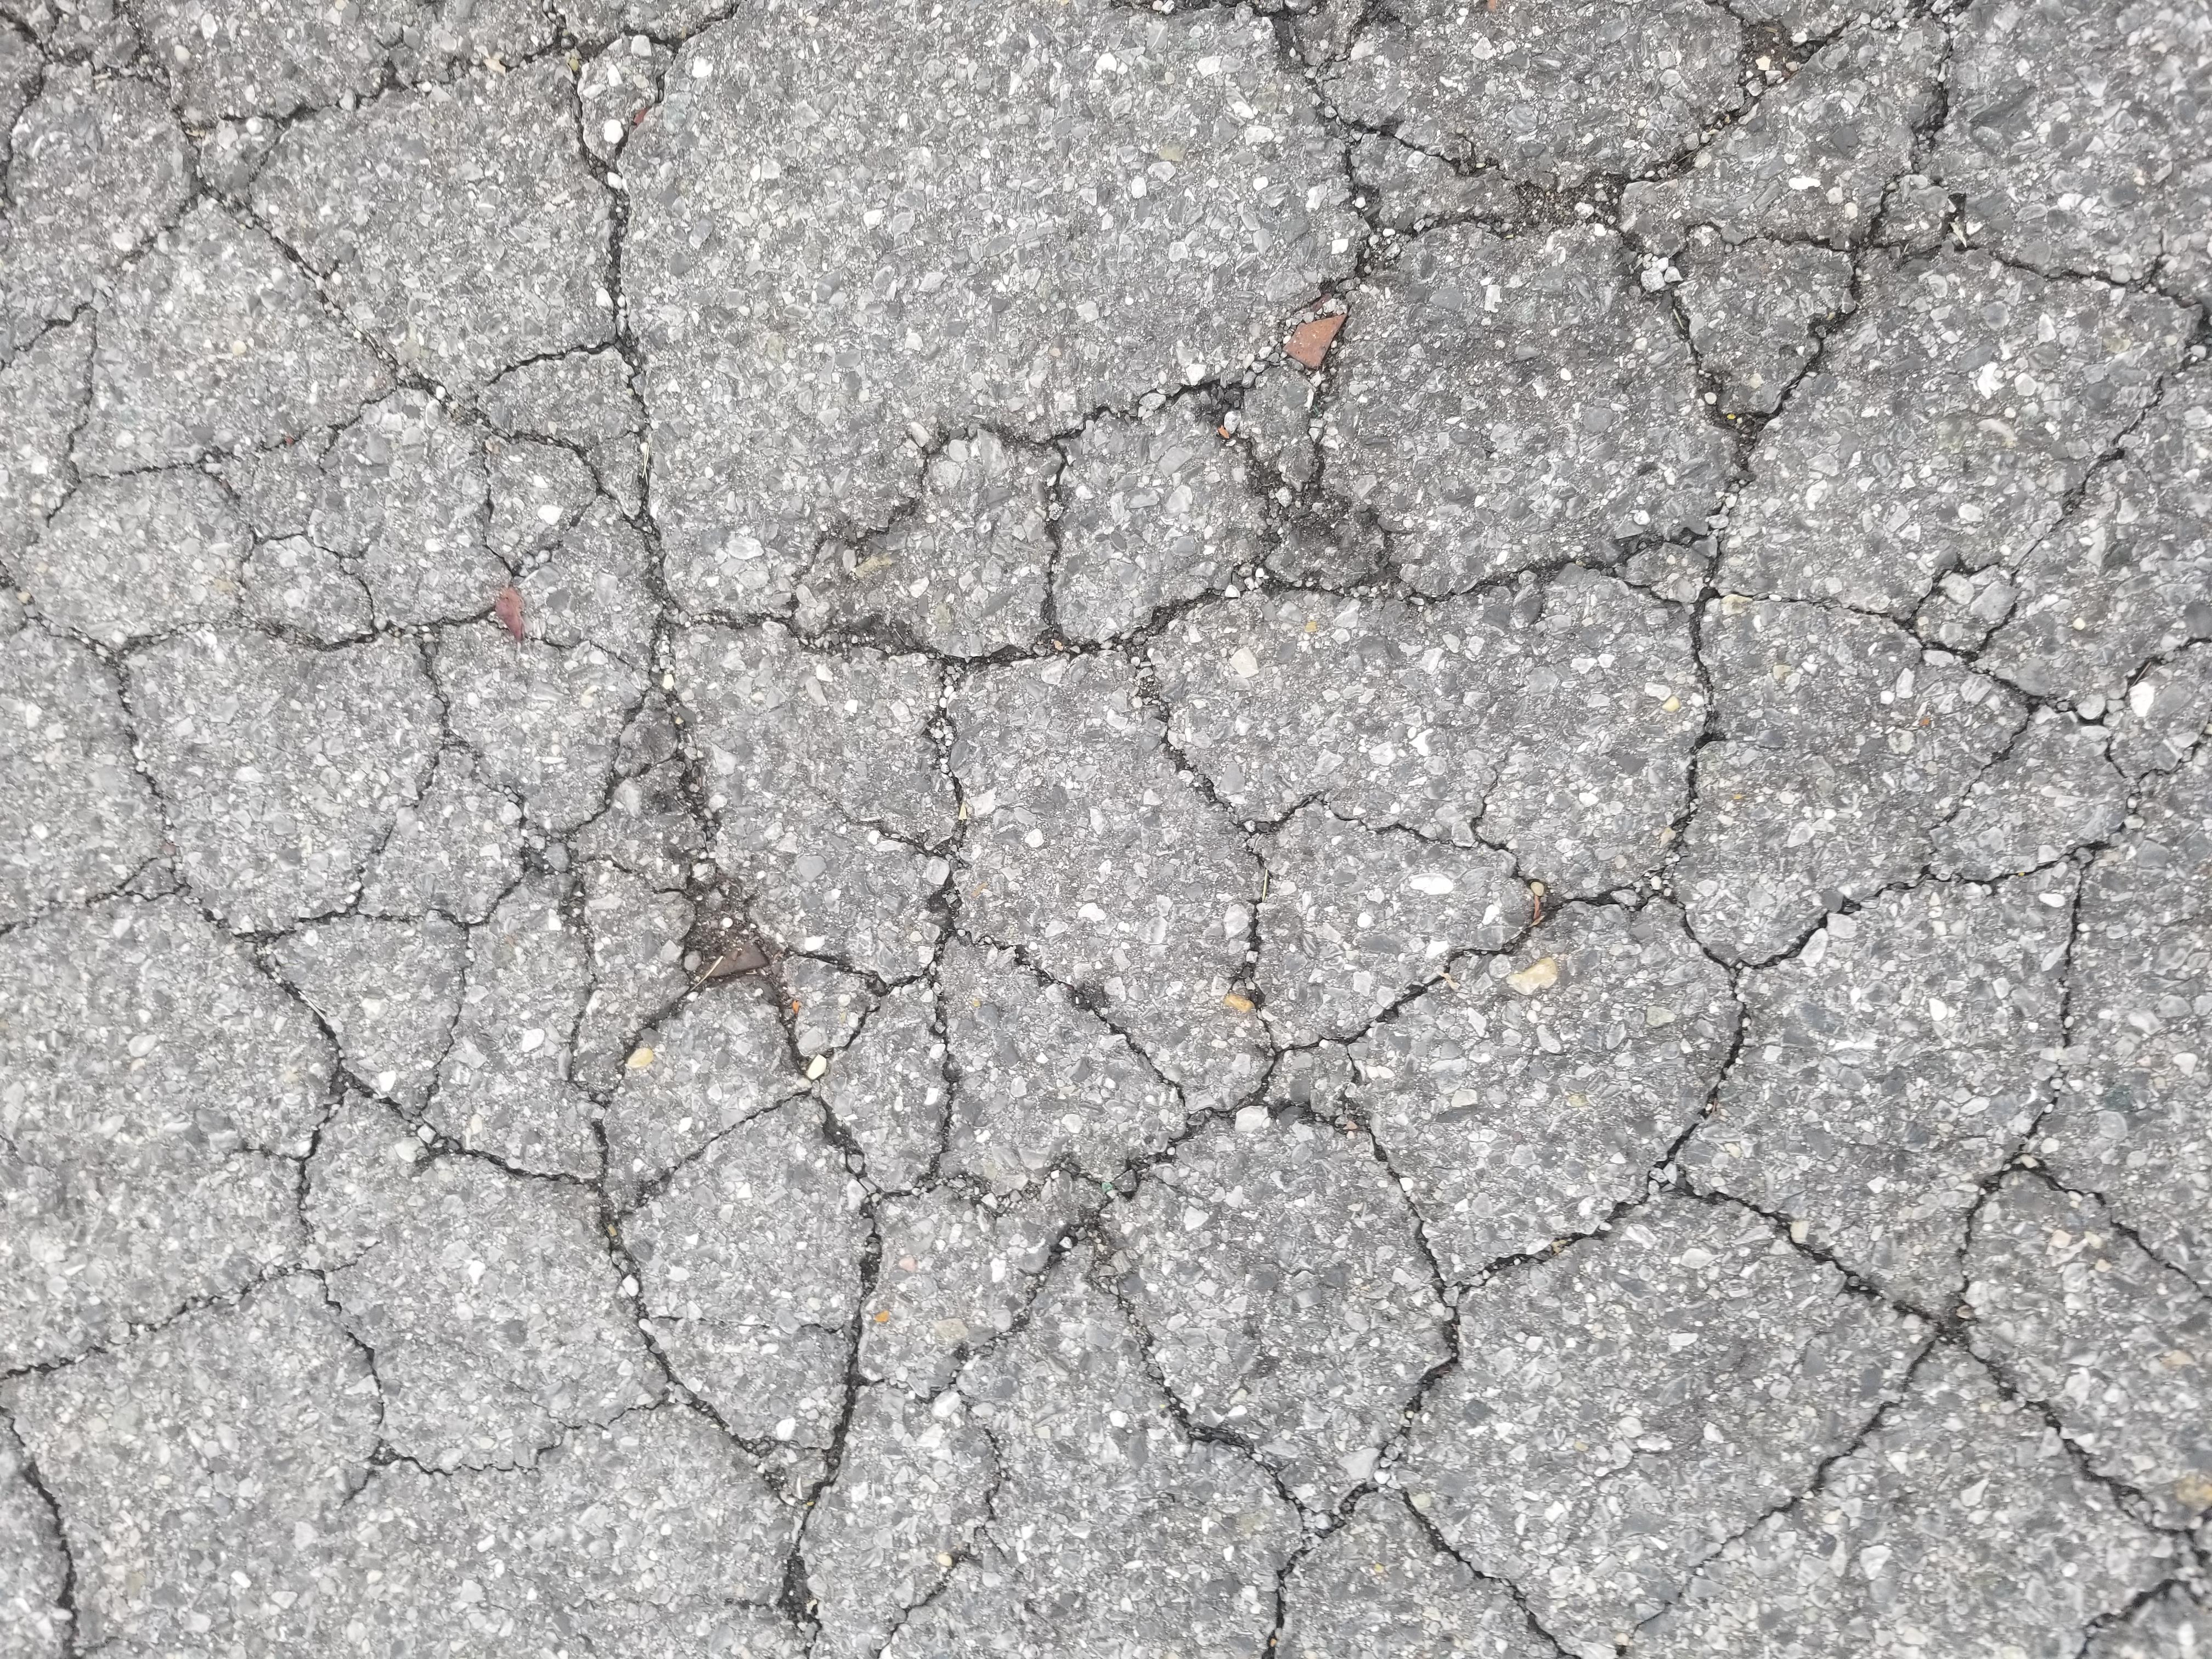alligator-crack: (30, 21, 2179, 1640)
